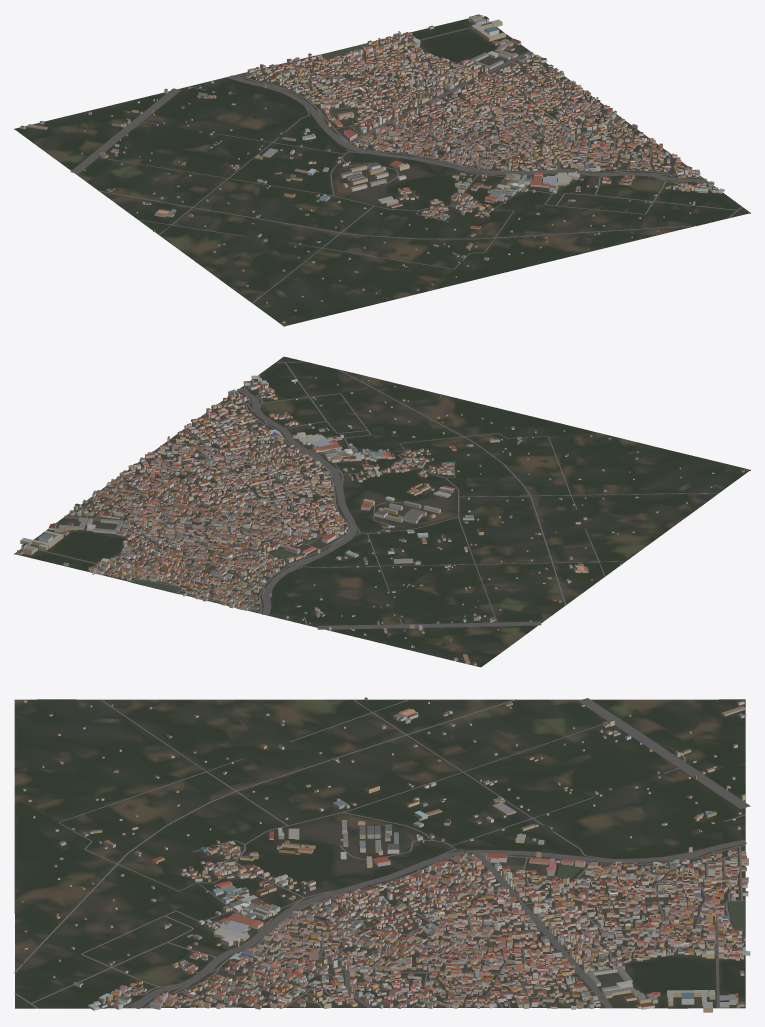
3 views of the same model, one above another, from view 1: azimuth 30°, elevation 25°; view 2: azimuth 150°, elevation 25°; view 3: azimuth 270°, elevation 25° (orthographic). The views are drawn at different scales.
Visible parts, largest first — view 1: ground, buildings, roads; view 2: ground, buildings, roads; view 3: ground, buildings, roads, water.
Part boxes in pixels (<box>): ground: <box>14,17,750,326</box>; buildings: <box>20,14,724,323</box>; roads: <box>70,17,742,303</box>; ground: <box>14,356,750,667</box>; buildings: <box>17,375,744,665</box>; roads: <box>23,361,718,629</box>; ground: <box>14,699,745,1008</box>; buildings: <box>21,697,750,1012</box>; roads: <box>14,698,750,1008</box>; water: <box>541,865,745,1008</box>.
Bounding box in the file's own units: 1424 × 27.12 × 1414.
